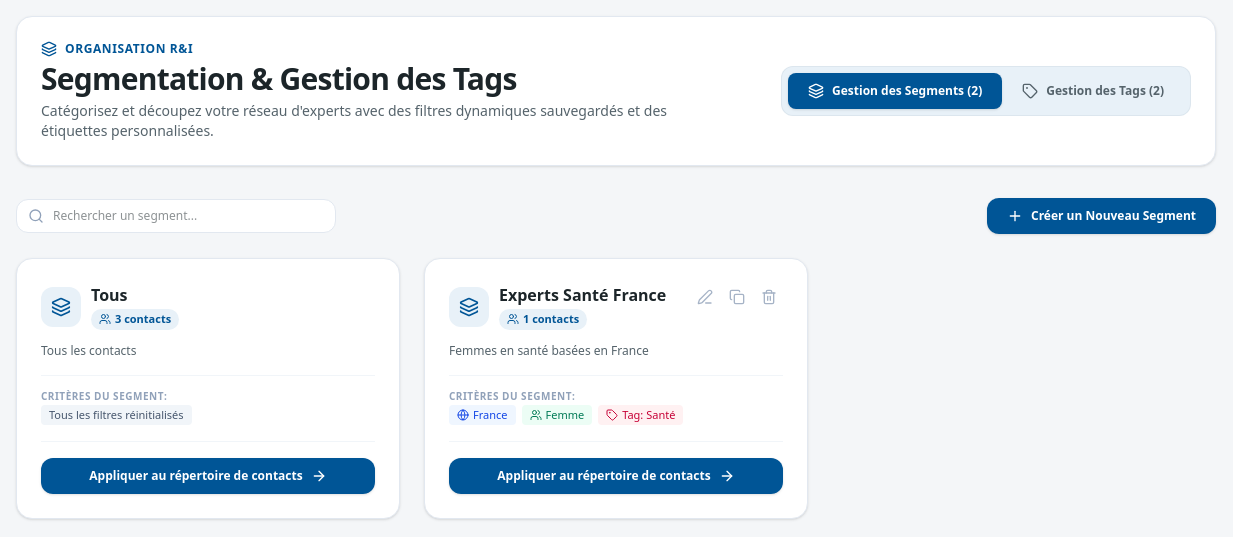
Test: SegmentationView › Tab switching › switches to the tags tab when clicking the tags button
The image size is (1233, 537).
Click the button "Gestion des Tags (2)" at coordinates (1093, 91), box [1002,73,1184,109]
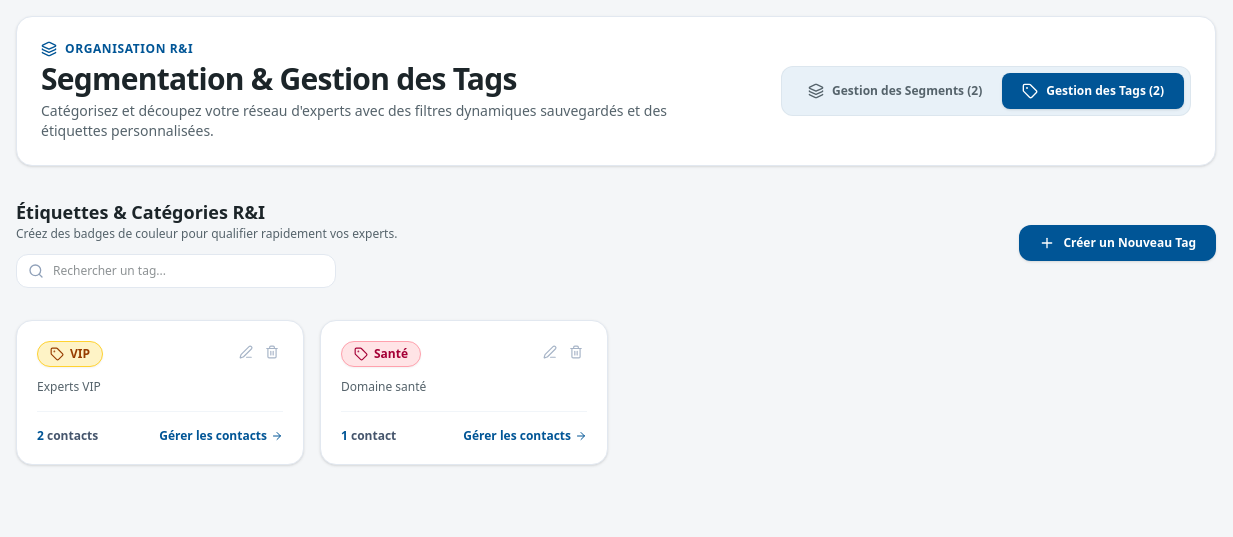
Expected: the heading "Étiquettes & Catégories R&I" is shown, [16,200,265,224]
Expected: the text "VIP" is shown, [37,341,103,367]
Expected: the heading "Experts Santé France" is gone
